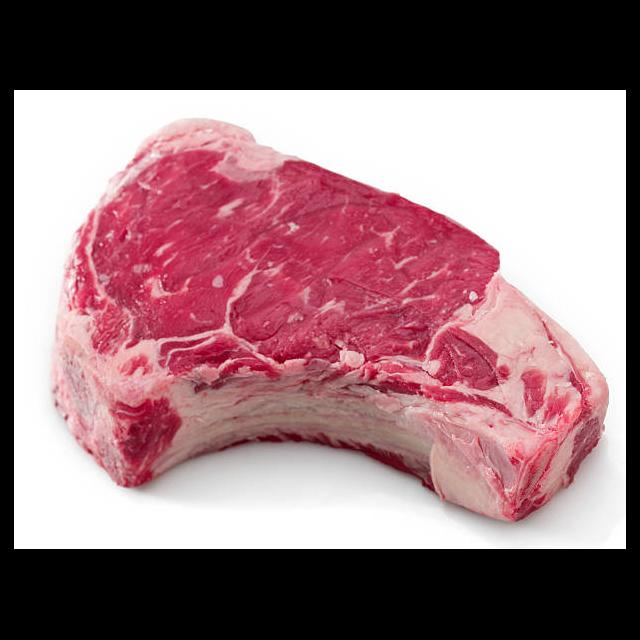beef: (52, 119, 610, 524)
